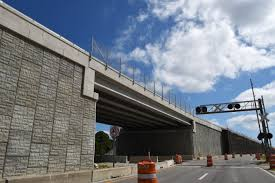bridge: (1, 1, 274, 172)
